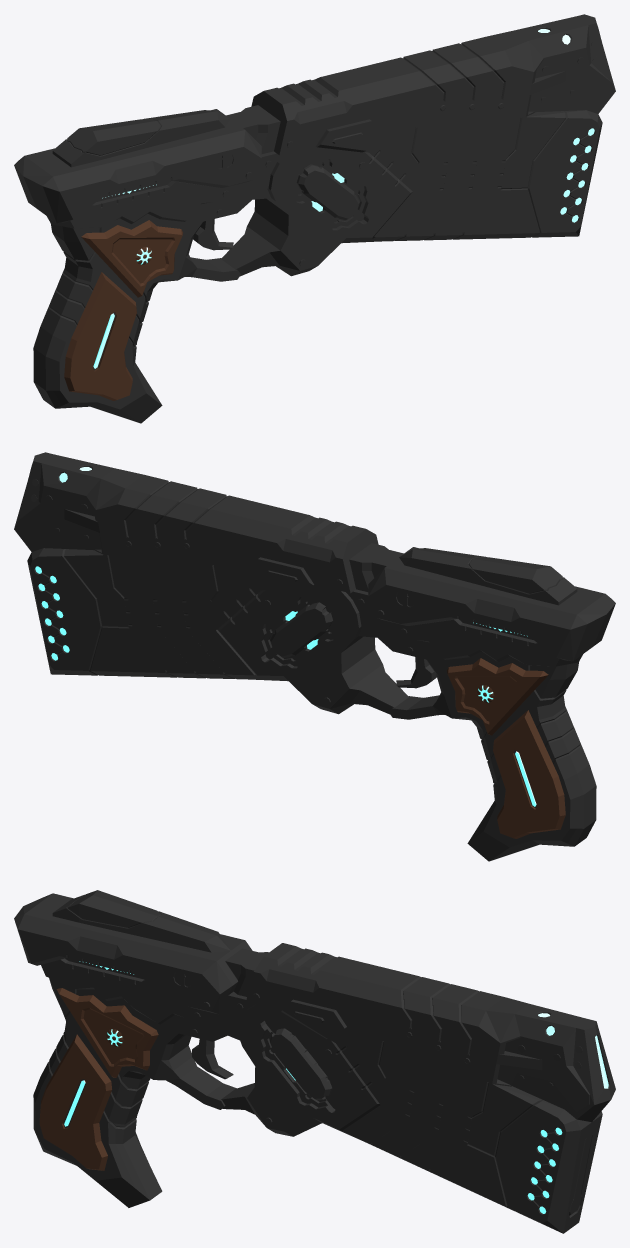
The model's file is cerevo_dominator_paralyzer.glb.
The picture shows the model from 3 angles, top to bottom: view 1: azimuth 30°, elevation 25°; view 2: azimuth 150°, elevation 25°; view 3: azimuth 330°, elevation 25°; orthographic projection.
Bounding box in the file's own units: 3.89 × 1.89 × 0.4999.
